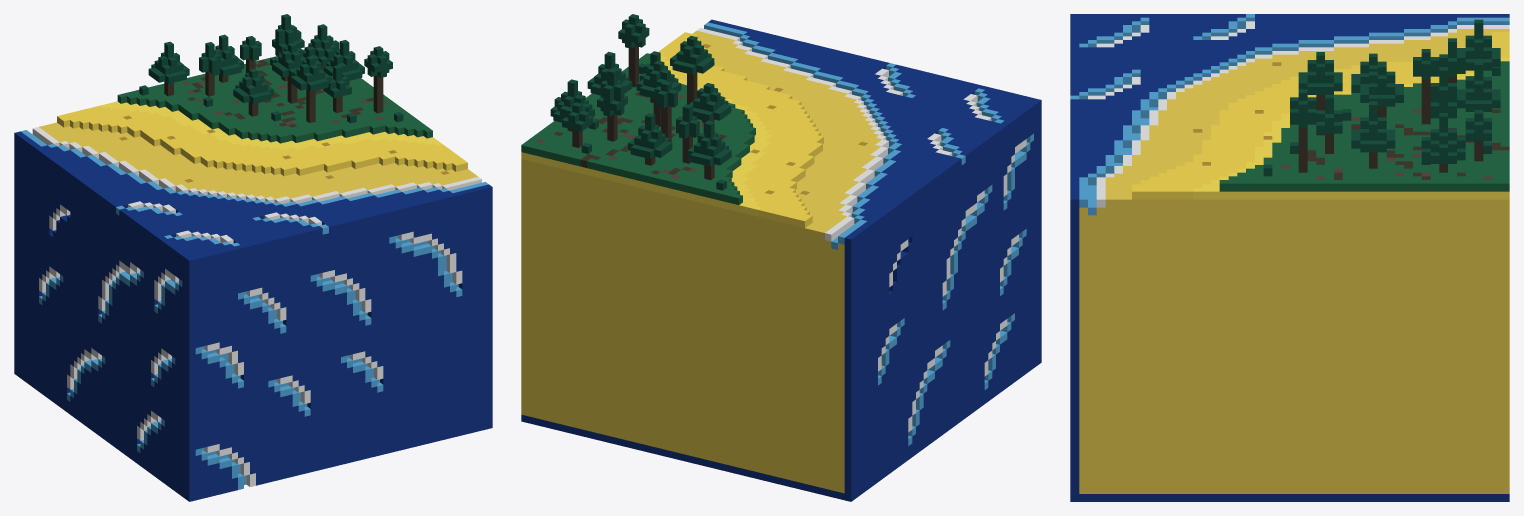
The model's file is forest wall 8.obj.
3 renders of one model, left to right at view 1: azimuth 30°, elevation 25°; view 2: azimuth 150°, elevation 25°; view 3: azimuth 270°, elevation 25°, orthographic. The views are drawn at different scales.
Bounding box in the file's own units: 5 × 5 × 5.
1 material, 1 textured.
